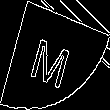M_N: (31, 23, 79, 87)
